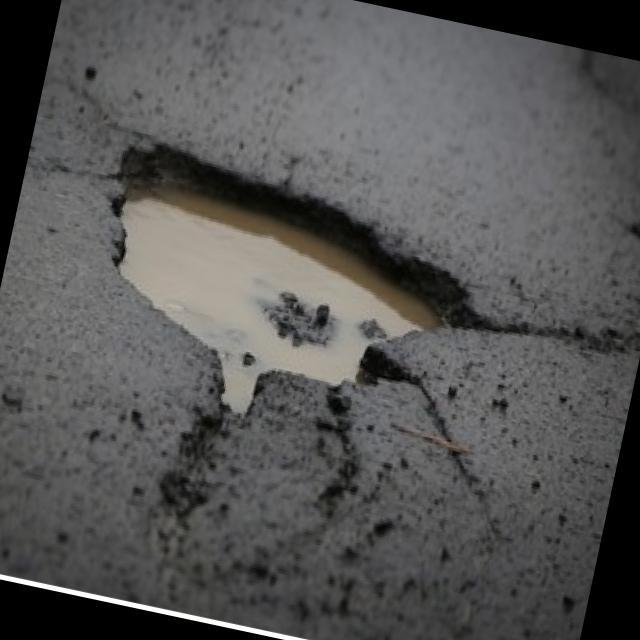Pothole: (70, 129, 500, 462)
